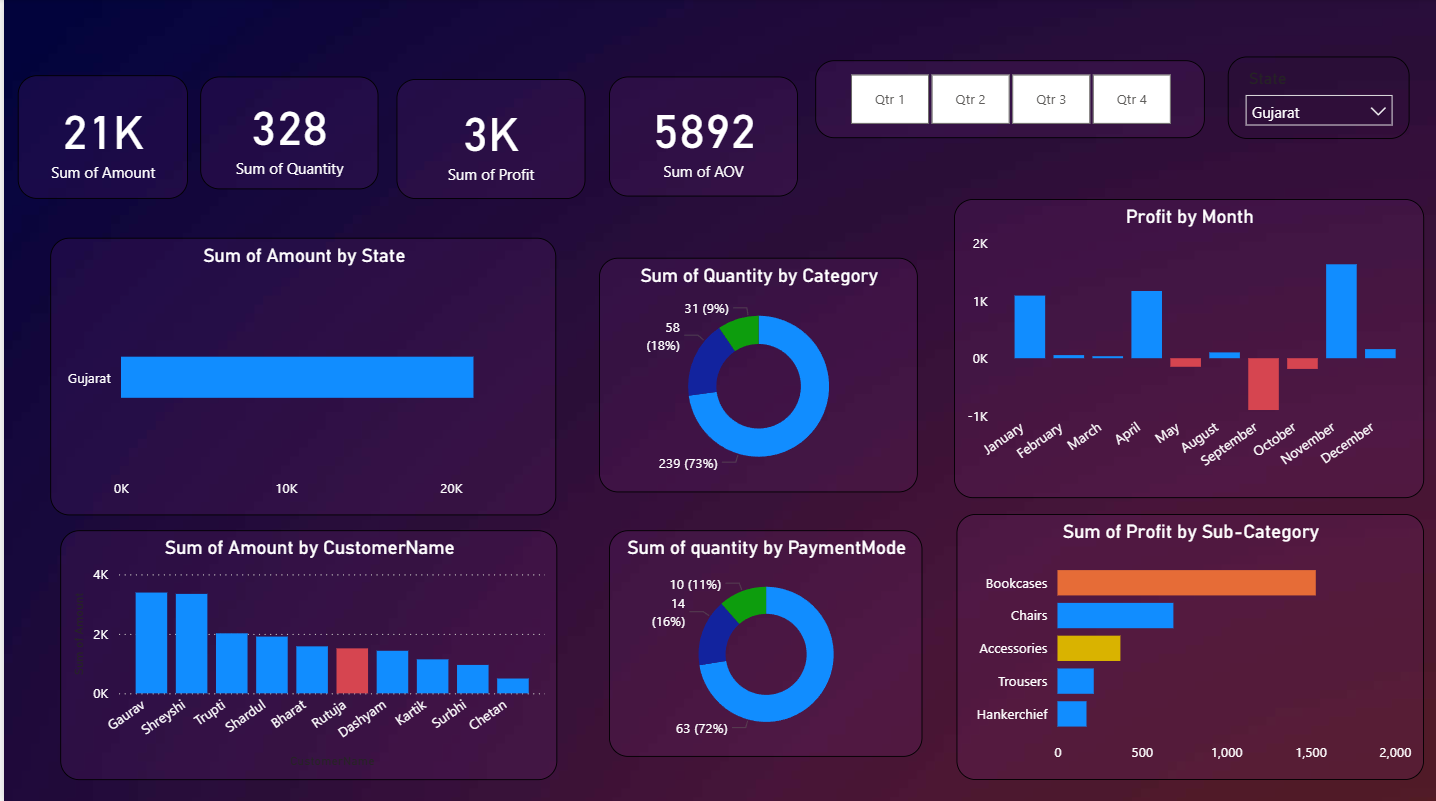

What the dashboard file says about the page in this screenshot:
{"tool":"powerbi","page":{"name":"Page 1","canvas":[1280,720],"ordinal":0},"visuals":[{"type":"columnChart","title":"Profit by Month","fields":{"Category":["Orders.Order Date.Variation.Date Hierarchy.Month"],"Y":["Details.Profit"]},"box":[848.8,179.1,419.8,267.4],"z":0},{"type":"barChart","fields":{"Category":["Details.Sub-Category"],"Y":["Details.Profit"]},"box":[851.2,460.5,417.4,237.2],"z":1000},{"type":"donutChart","fields":{"Category":["Details.Category"],"Y":["Details.Quantity"]},"box":[555.8,255.8,284.9,209.3],"z":2000},{"type":"donutChart","title":"Sum of quantity by PaymentMode","fields":{"Category":["Details.Category"],"Y":["Details.PaymentMode"]},"box":[560.5,495.4,280.2,202.3],"z":3000},{"type":"card","fields":{"Values":["Details.Amount"]},"box":[12.8,68.6,152.3,110.5],"z":4000},{"type":"card","fields":{"Values":["Details.Quantity"]},"box":[175.6,69.8,159.3,101.2],"z":5000},{"type":"card","fields":{"Values":["Details.Profit"]},"box":[351.2,70.9,168.6,107],"z":6000},{"type":"card","fields":{"Values":["Details.AOV"]},"box":[540.7,69.8,168.6,107],"z":7000},{"type":"barChart","fields":{"Category":["Orders.State"],"Y":["Details.Amount"]},"box":[41.9,212.8,452.3,247.7],"z":8000},{"type":"columnChart","fields":{"Category":["Orders.CustomerName"],"Y":["Details.Amount"]},"box":[50,474.4,444.2,223.3],"z":9000},{"type":"slicer","fields":{"Values":["Orders.Order Date.Variation.Date Hierarchy.Quarter"]},"box":[724.4,54.7,347.7,69.8],"z":10000},{"type":"slicer","fields":{"Values":["Orders.State"]},"box":[1093,51.2,162.8,73.3],"z":11000}]}

Visuals, with their boxes in screenshot pixels (x1, y1, x2, y2), scaled from the page's 1280x720 canvas onto the 1436x801 screenshot:
"Profit by Month" columnChart: x1=952 y1=199 x2=1423 y2=497
barChart - Details.Sub-Category x Details.Profit: x1=955 y1=512 x2=1423 y2=776
donutChart - Details.Category x Details.Quantity: x1=624 y1=285 x2=943 y2=517
"Sum of quantity by PaymentMode" donutChart: x1=629 y1=551 x2=943 y2=776
card - Details.Amount: x1=14 y1=76 x2=185 y2=199
card - Details.Quantity: x1=197 y1=78 x2=376 y2=190
card - Details.Profit: x1=394 y1=79 x2=583 y2=198
card - Details.AOV: x1=607 y1=78 x2=796 y2=197
barChart - Orders.State x Details.Amount: x1=47 y1=237 x2=554 y2=512
columnChart - Orders.CustomerName x Details.Amount: x1=56 y1=528 x2=554 y2=776
slicer - Orders.Order Date.Variation.Date Hierarchy.Quarter: x1=813 y1=61 x2=1203 y2=139
slicer - Orders.State: x1=1226 y1=57 x2=1409 y2=139
